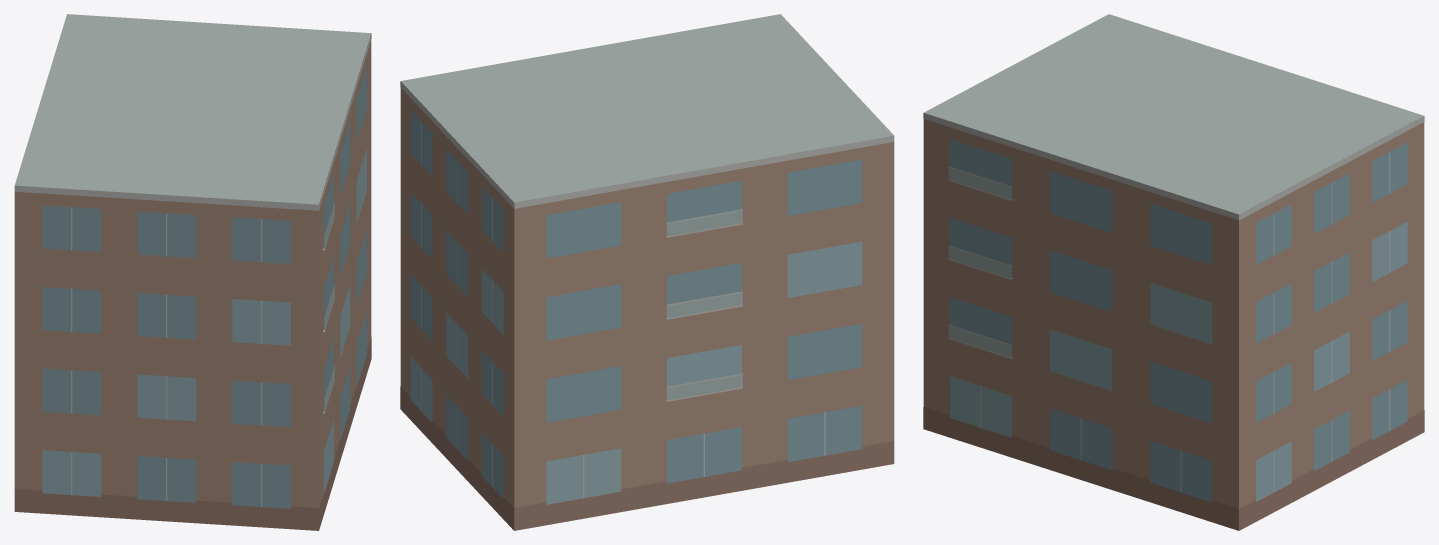
File: survey-upis-32741674.glb
3 views of the same model, side by side, from view 1: azimuth 30°, elevation 25°; view 2: azimuth 150°, elevation 25°; view 3: azimuth 270°, elevation 25° (orthographic). The views are drawn at different scales.
Parts seen in each view (by area): view 1: survey-upis-32741674.tmp; view 2: survey-upis-32741674.tmp; view 3: survey-upis-32741674.tmp.
Part boxes in pixels (box(x1,y1,x2,y2)): survey-upis-32741674.tmp: box(14, 14, 371, 530); survey-upis-32741674.tmp: box(400, 14, 894, 530); survey-upis-32741674.tmp: box(923, 14, 1424, 530).
Size of the model in its own units: 17.54 by 12.9 by 18.52.
